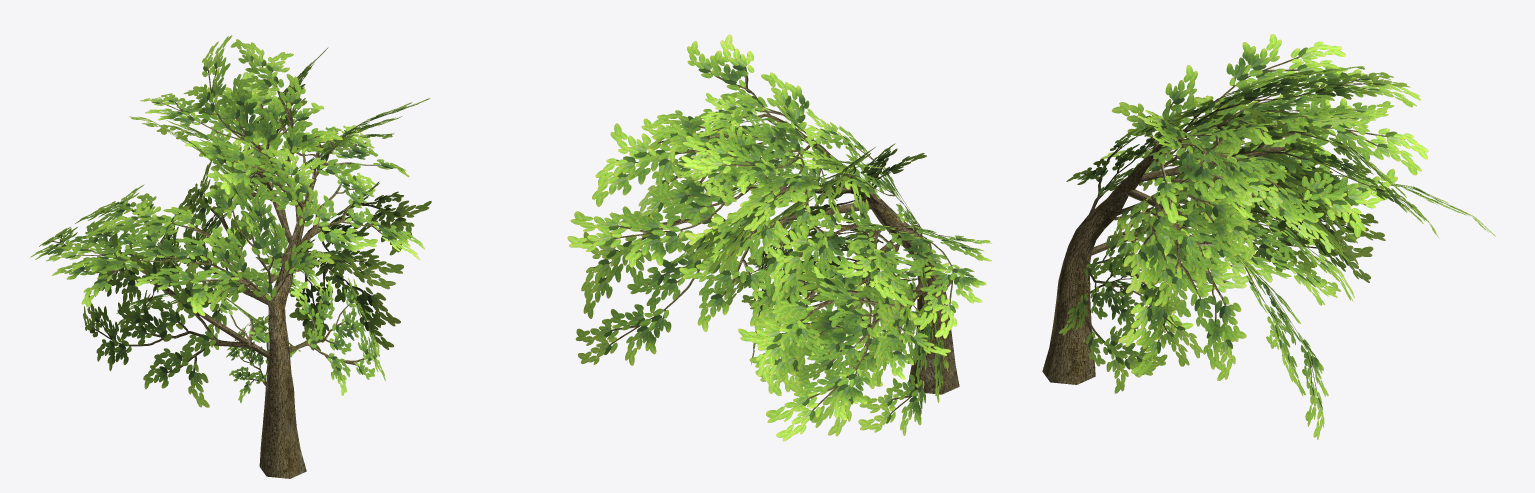
The model's file is watertree_leaves1_lod0.fbx.
3 renders of one model, left to right at view 1: azimuth 30°, elevation 25°; view 2: azimuth 150°, elevation 25°; view 3: azimuth 270°, elevation 25°, orthographic. The views are drawn at different scales.
Visible parts, largest first — view 1: Mesh Object; view 2: Mesh Object; view 3: Mesh Object.
Boxes of the visible parts, x1,y1,x2,y2 form: Mesh Object: (30, 35, 431, 478); Mesh Object: (567, 34, 991, 441); Mesh Object: (1042, 34, 1495, 439).
Size of the model in its own units: 4.53 by 3.11 by 3.83.
